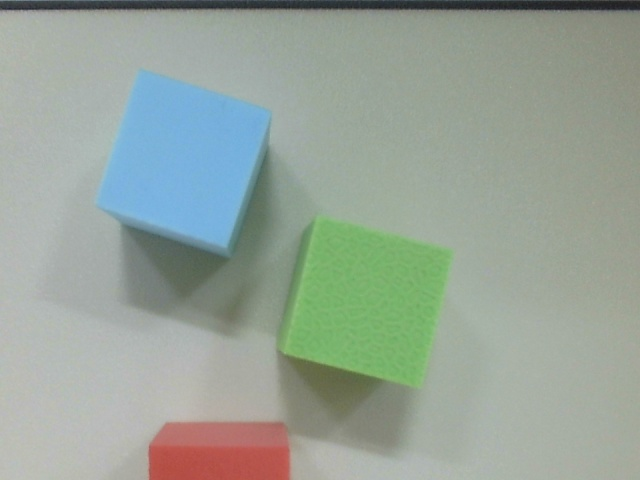greencube: (274, 219, 453, 392)
